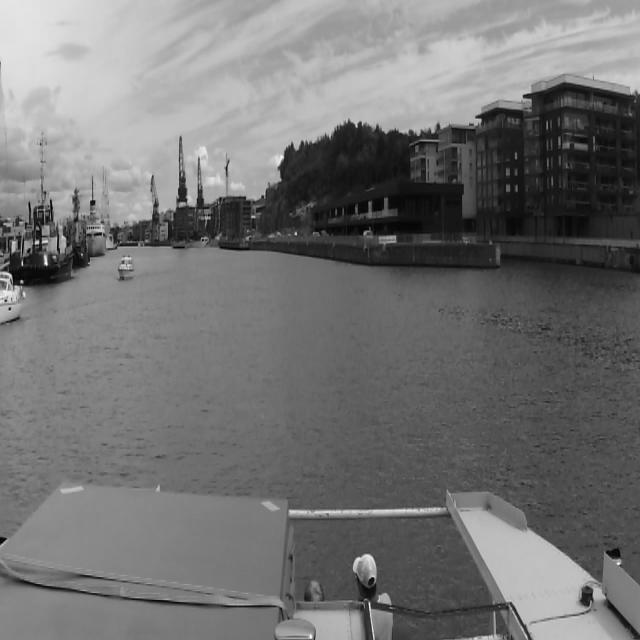ship: (9, 129, 72, 283), (72, 188, 90, 266), (90, 175, 106, 256), (117, 256, 135, 282)
